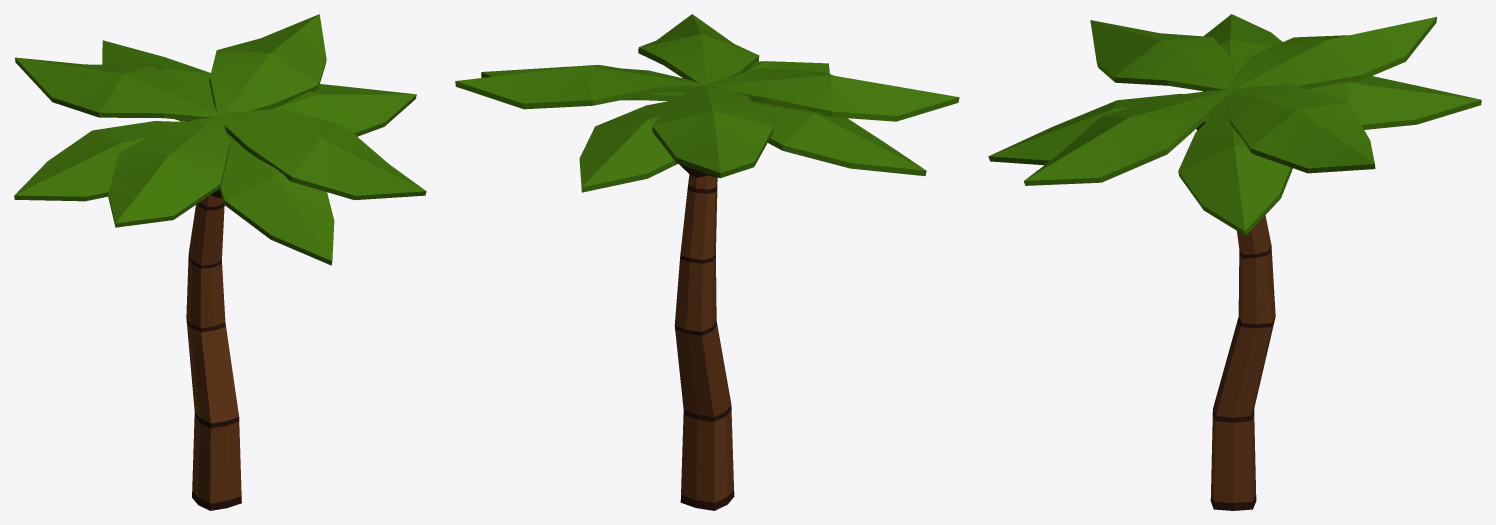
Rendered from Palmier.obj.
The picture shows the model from 3 angles, left to right: view 1: azimuth 30°, elevation 25°; view 2: azimuth 150°, elevation 25°; view 3: azimuth 270°, elevation 25°; orthographic projection. The views are drawn at different scales.
Parts seen in each view (by area): view 1: Cube.001; view 2: Cube.001; view 3: Cube.001.
Boxes of the visible parts, <box> form: Cube.001: <box>14,14,426,510</box>; Cube.001: <box>455,14,959,510</box>; Cube.001: <box>988,14,1481,510</box>.
Size of the model in its own units: 29.1 by 27.63 by 28.36.
